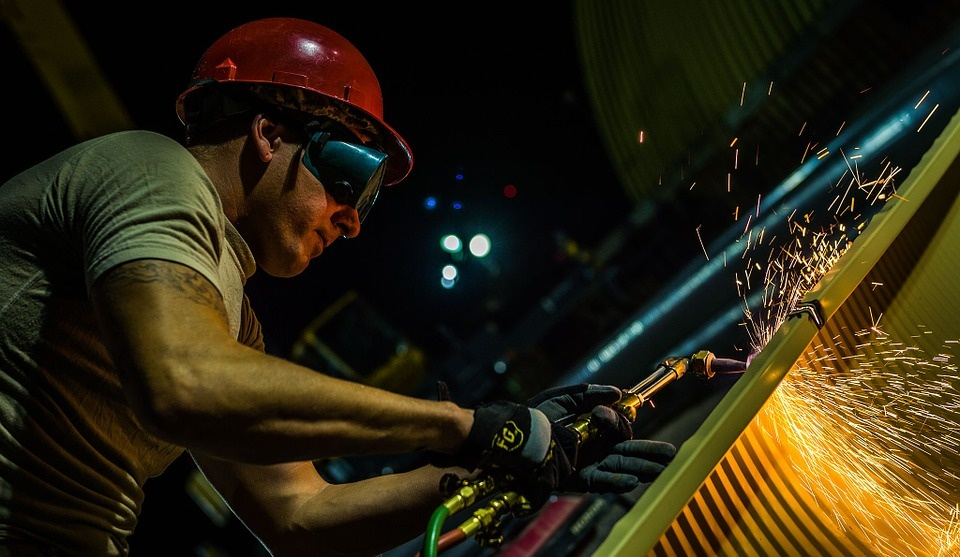red: (172, 18, 404, 278)
